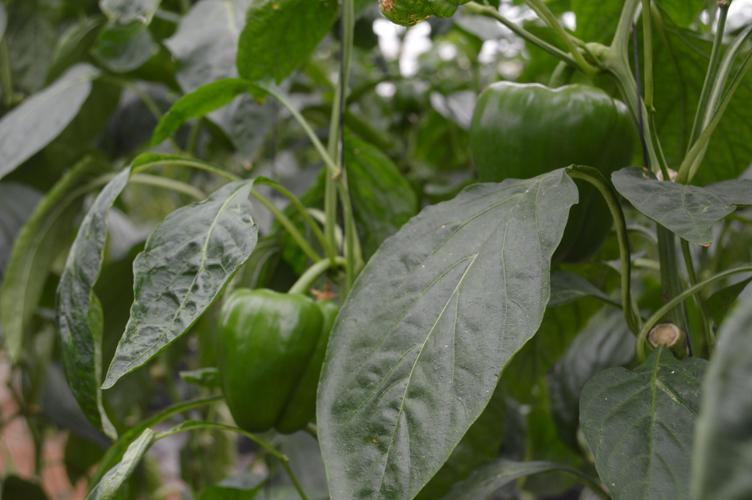BellPepper: (469, 83, 635, 263), (212, 288, 334, 434)
